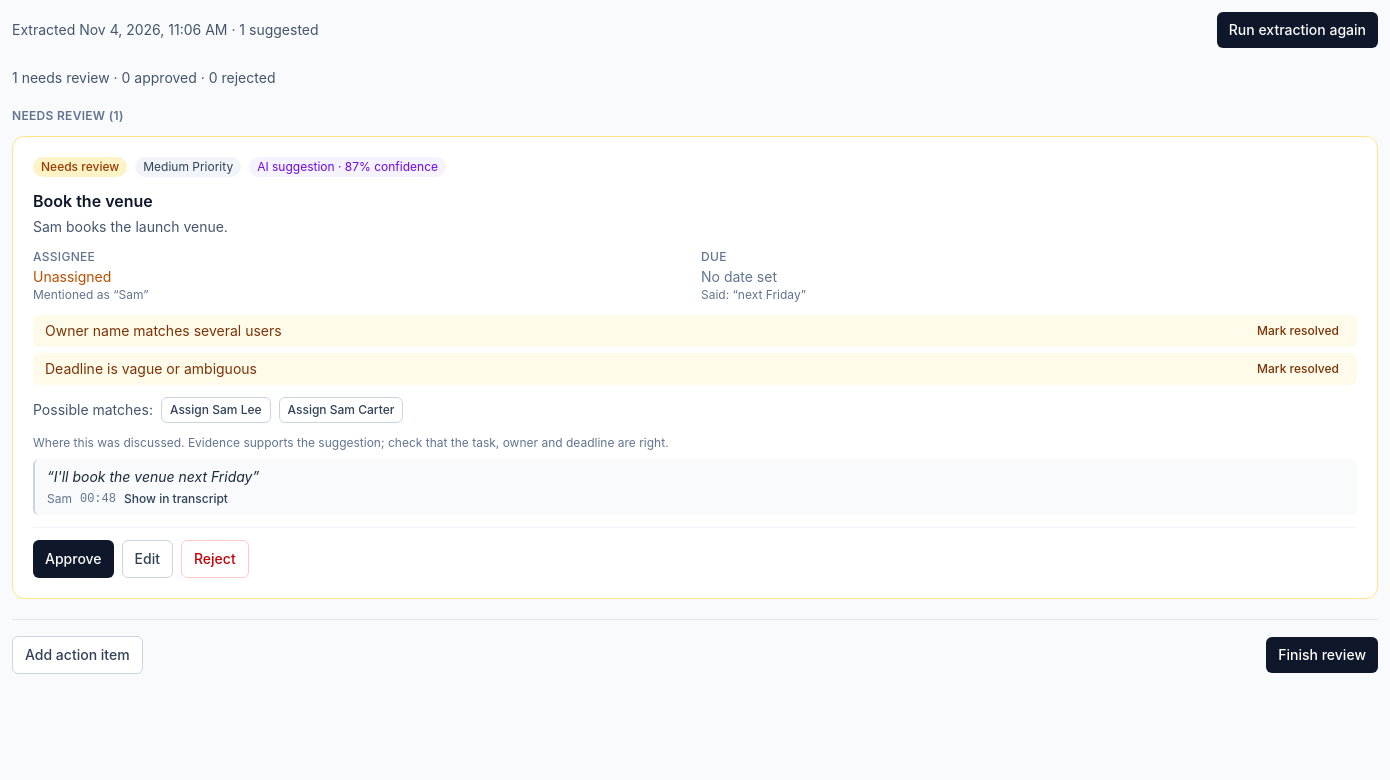
Test: reviewing items › approves only after the server confirms, once, and keeps the item pending on failure
The image size is (1390, 780).
Click the button "Approve": (73, 559) [33, 540, 114, 578]
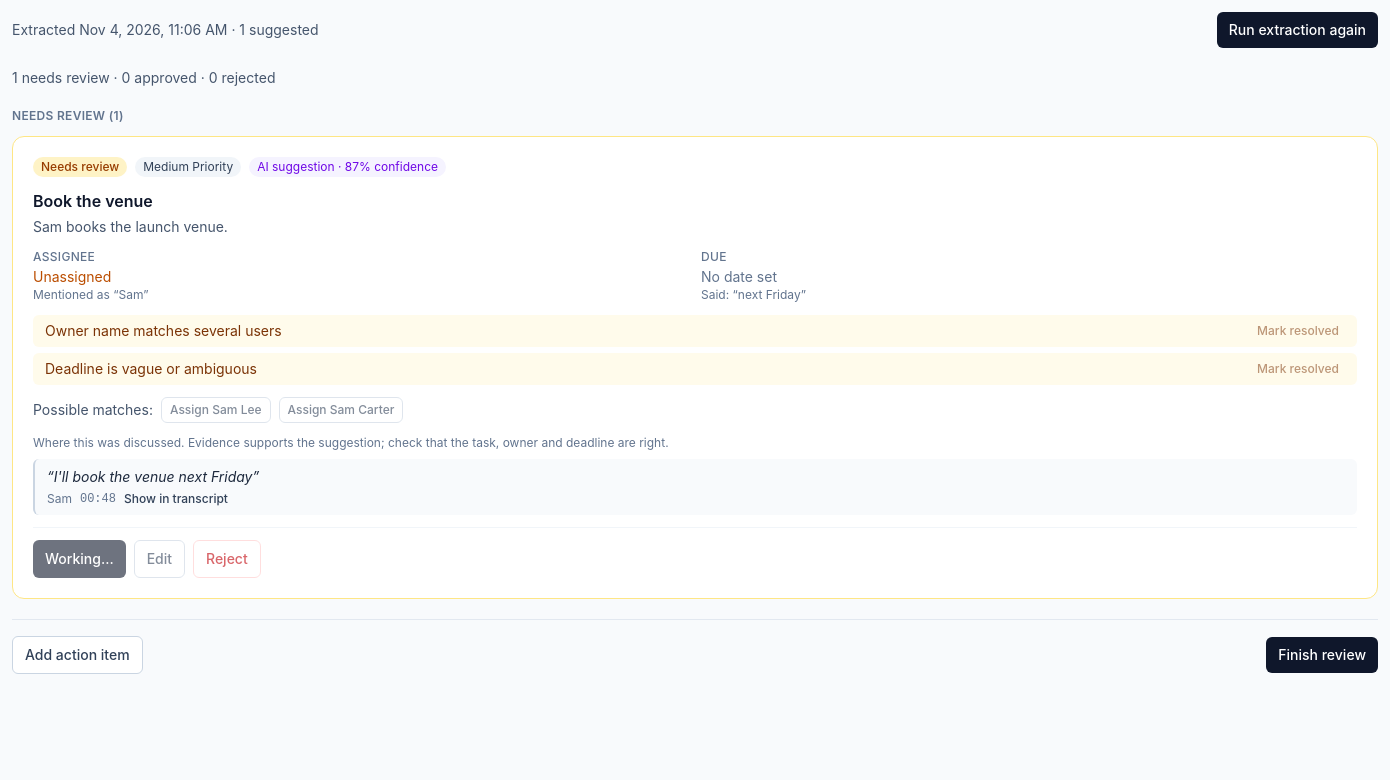
Click the button "Working…": (79, 559) [33, 540, 126, 578]
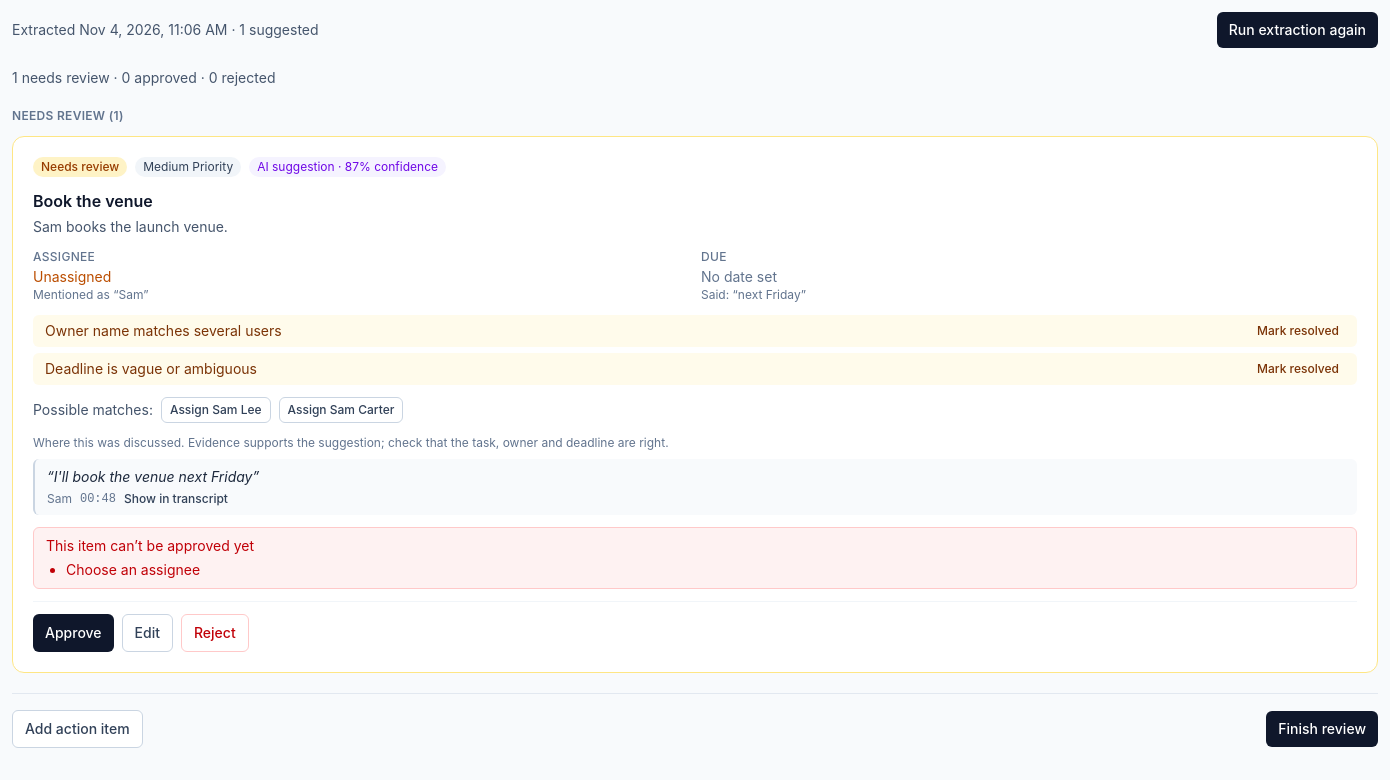
Expected: the text "Needs review" is shown, [33, 157, 127, 177]
Expected: the list item "Choose an assignee" is shown, [66, 561, 200, 578]
Click the button "Approve": (73, 633) [33, 614, 114, 652]
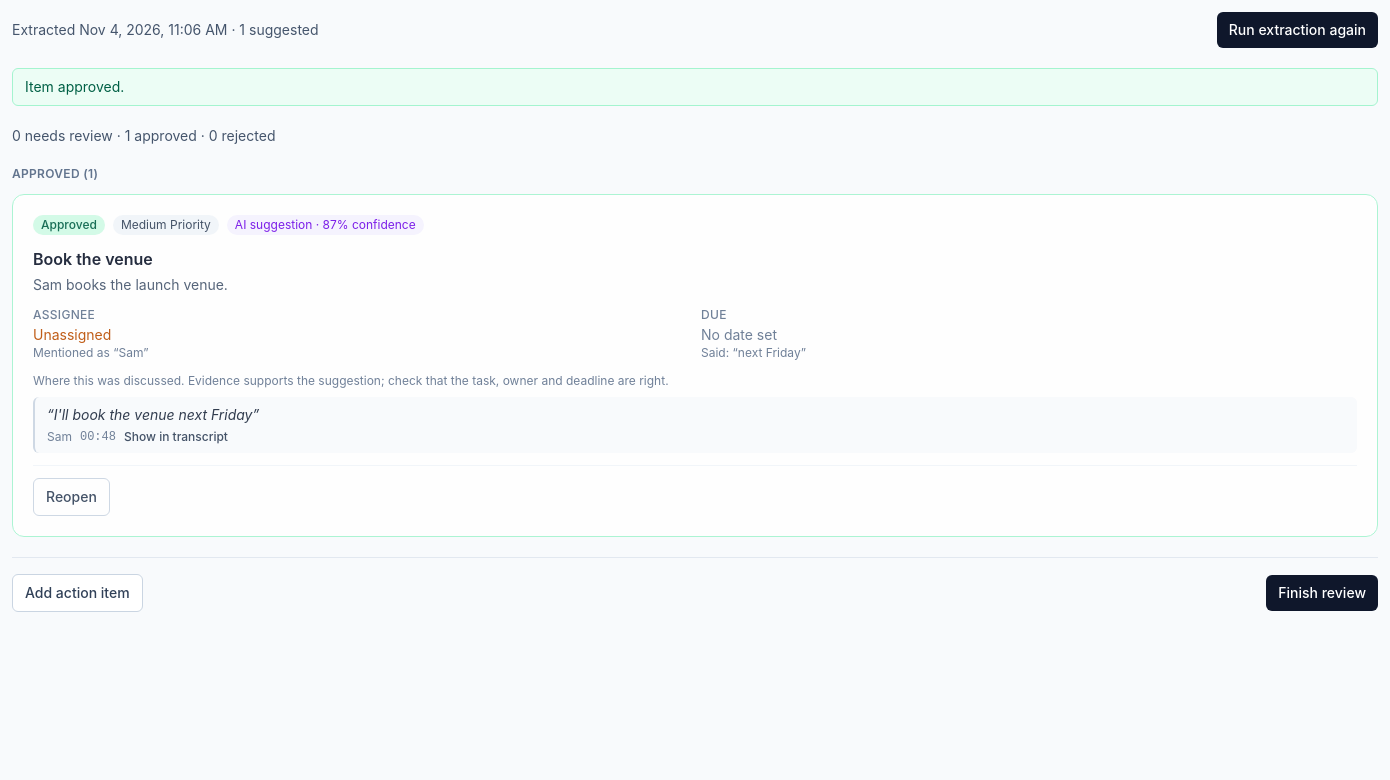
Expected: the heading "Book the venue" is shown, [33, 249, 153, 269]
Expected: the text "Item approved." is shown, [12, 68, 1378, 106]
